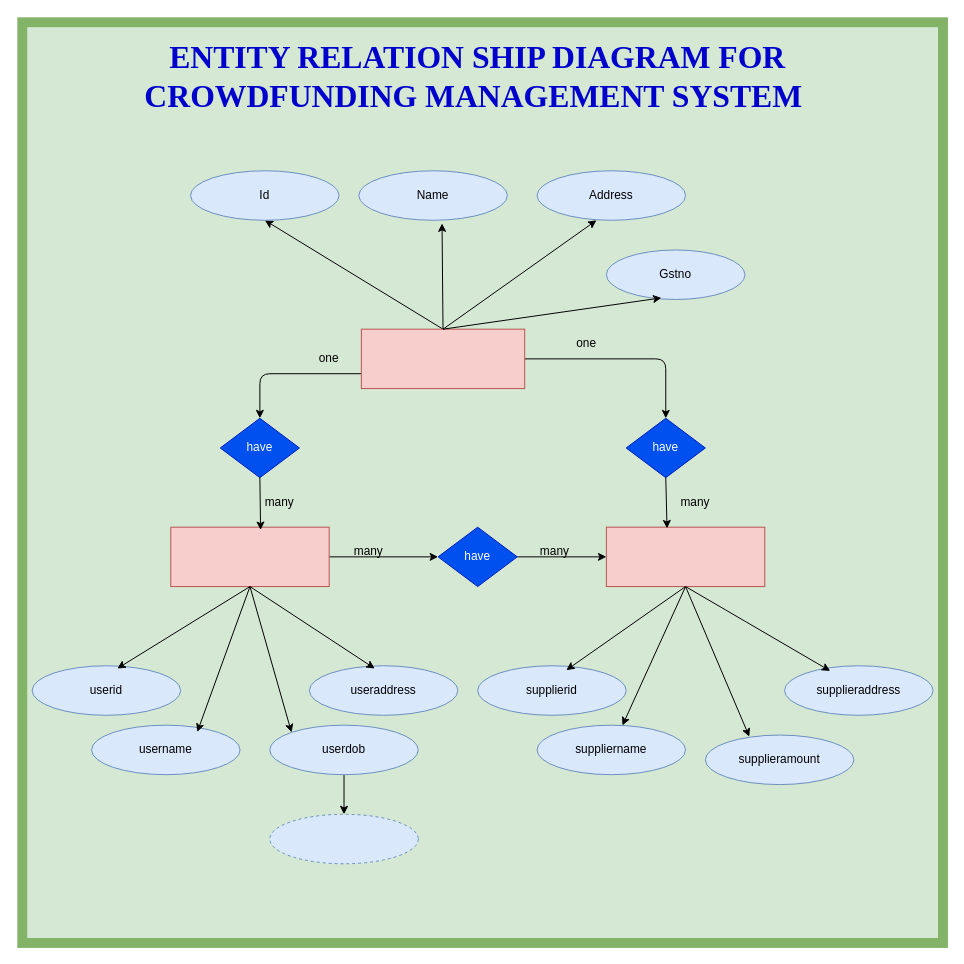
Some shapes in this 964 by 964 pixel diagram are drawn without their labels. Each missing label, with the centre of its shape:
age: (x=343, y=838)
Crowd-funding: (x=442, y=358)
Suppliers: (x=685, y=556)
Users: (x=249, y=556)
